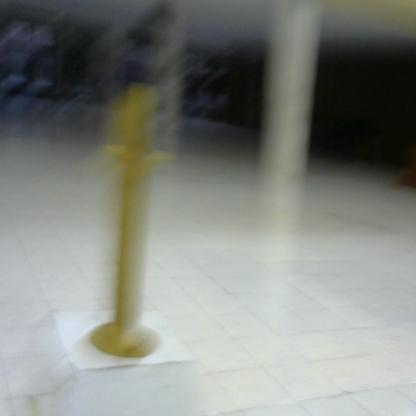pole: (92, 79, 181, 361)
